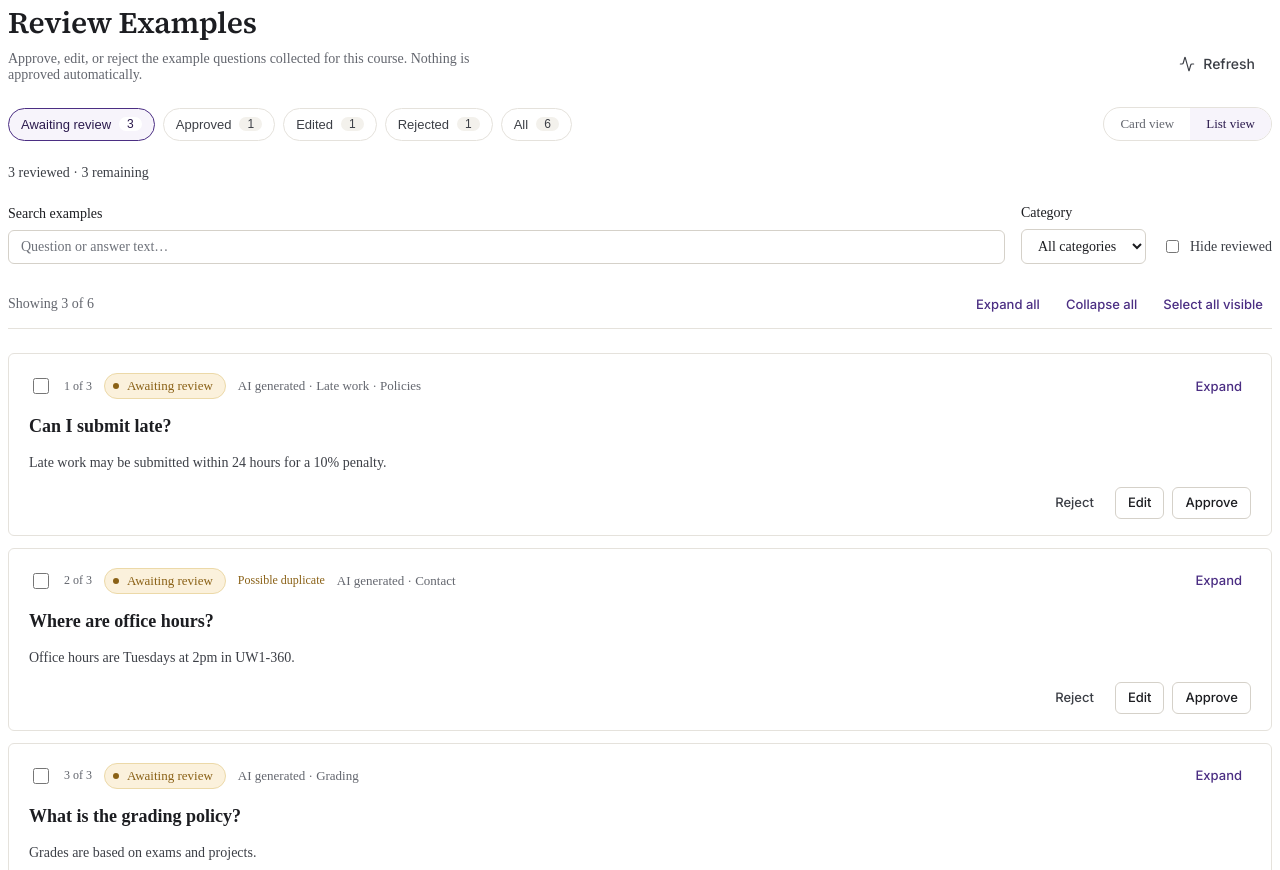
it: ReviewExamplesPage list view › view modes › shows the status of every example, not just pending ones
expect the text "Can I submit late?" is shown: met, box top-left (29, 416), bottom-right (172, 436)
Click the tab "All 6": (536, 124) top-left (501, 108), bottom-right (572, 140)
(page scrolled)
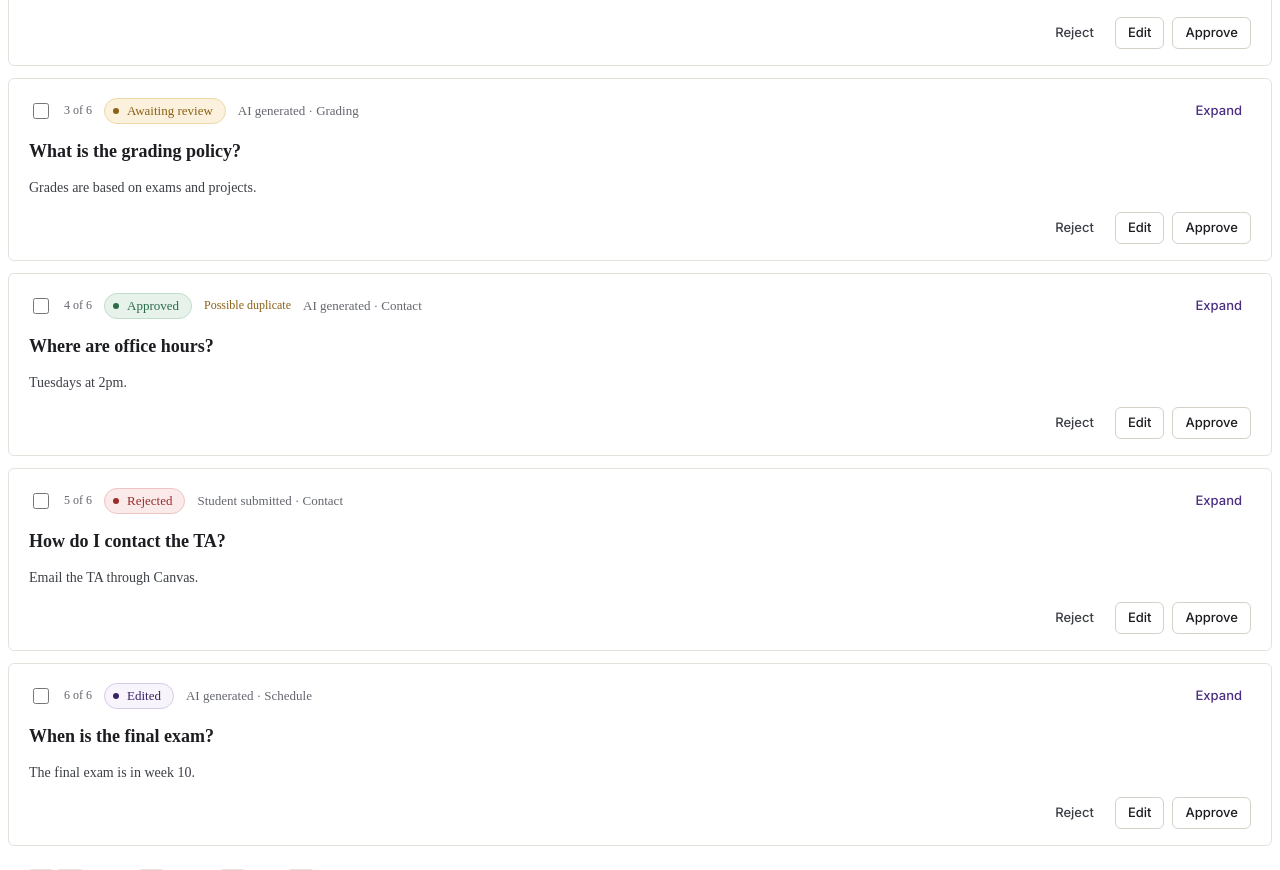
expect the text "Approved" is shown: met, box top-left (104, 293), bottom-right (192, 319)
expect the text "Rejected" is shown: met, box top-left (104, 488), bottom-right (186, 514)
expect the text "Edited" is shown: met, box top-left (104, 683), bottom-right (174, 709)
